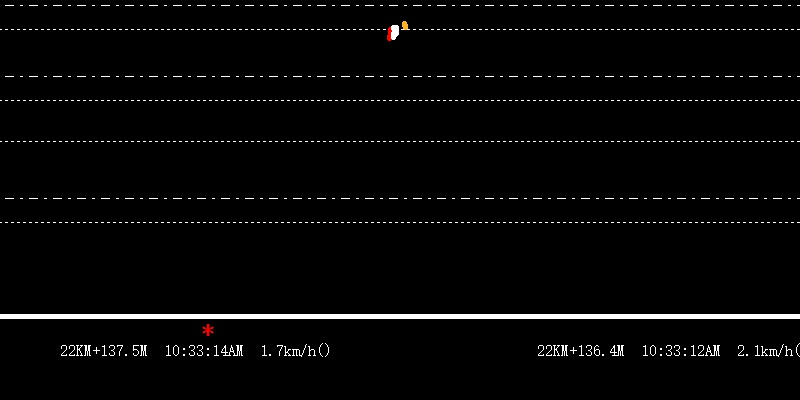face_1: (401, 17, 408, 34)
face_s: (386, 24, 396, 44)
star: (200, 319, 216, 339)
